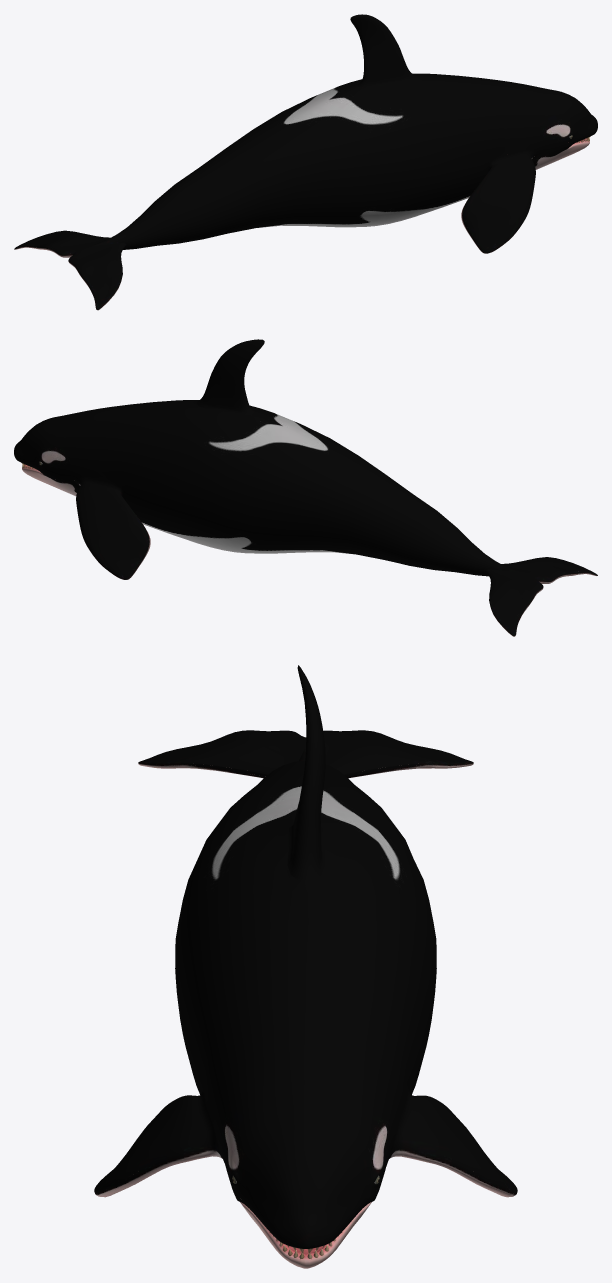
File: orca.glb
3 renders of one model, top to bottom at view 1: azimuth 30°, elevation 25°; view 2: azimuth 150°, elevation 25°; view 3: azimuth 270°, elevation 25°, orthographic. The views are drawn at different scales.
Visible parts, largest first — view 1: baked_MS_Orca_MT_Orca_0; view 2: baked_MS_Orca_MT_Orca_0; view 3: baked_MS_Orca_MT_Orca_0.
Part boxes in pixels (x1=…): baked_MS_Orca_MT_Orca_0: x1=14, y1=14, x2=597, y2=310; baked_MS_Orca_MT_Orca_0: x1=14, y1=339, x2=597, y2=636; baked_MS_Orca_MT_Orca_0: x1=94, y1=665, x2=517, y2=1268.
Size of the model in its own units: 1 by 0.3904 by 0.3384.
1 material, 1 textured.
